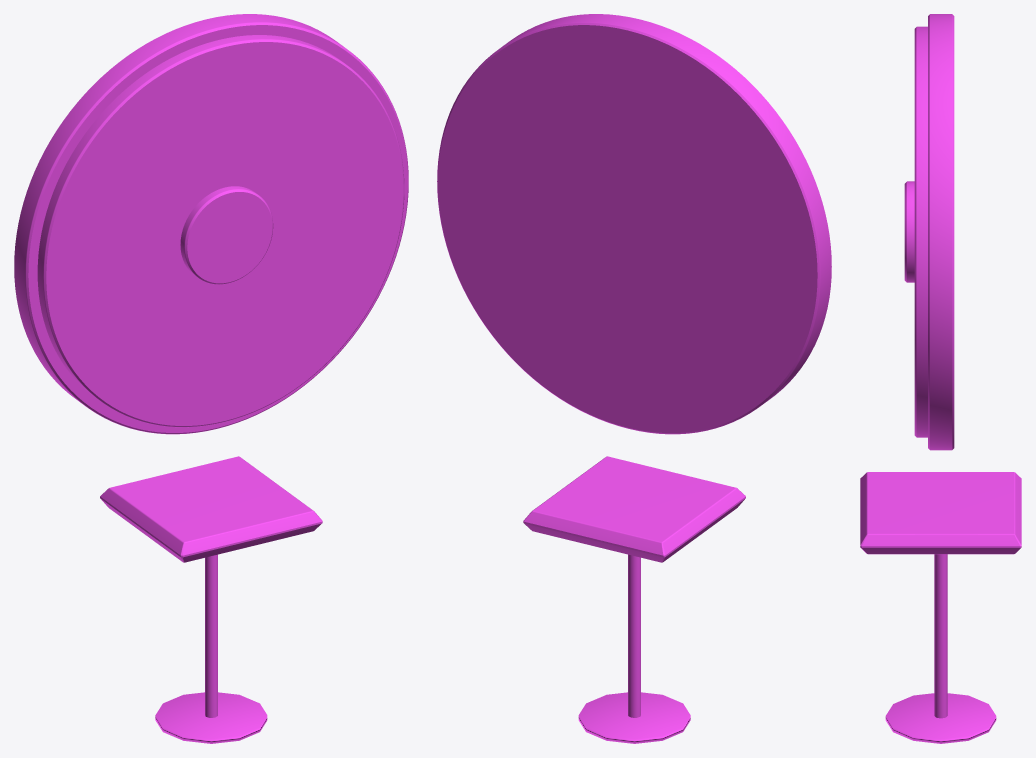
The model's file is Target.obj.
3 views of the same model, side by side, from view 1: azimuth 30°, elevation 25°; view 2: azimuth 150°, elevation 25°; view 3: azimuth 270°, elevation 25° (orthographic).
Parts seen in each view (by area): view 1: target1; view 2: target1; view 3: target1.
Part boxes in pixels (x1,y1,x2,y2): target1: (14, 14, 408, 743); target1: (437, 14, 831, 743); target1: (860, 14, 1021, 743).
Bounding box in the file's own units: 19.76 × 34.3 × 7.31.
